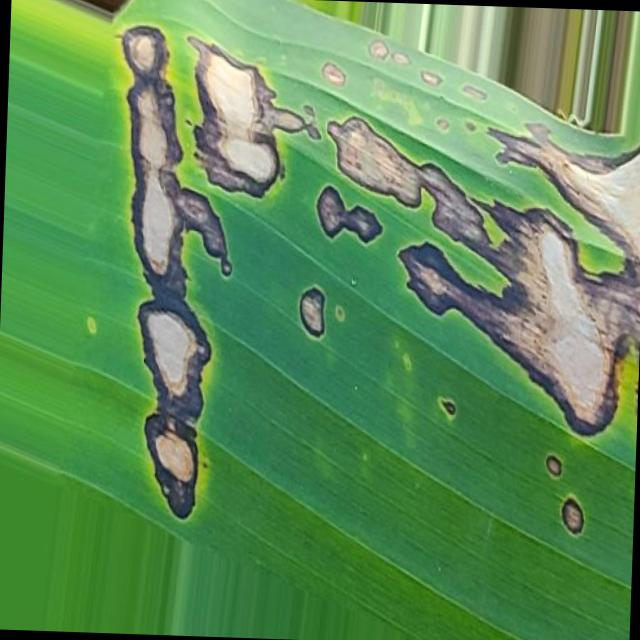Banana_Black_Sigatoka: (98, 0, 640, 545)
